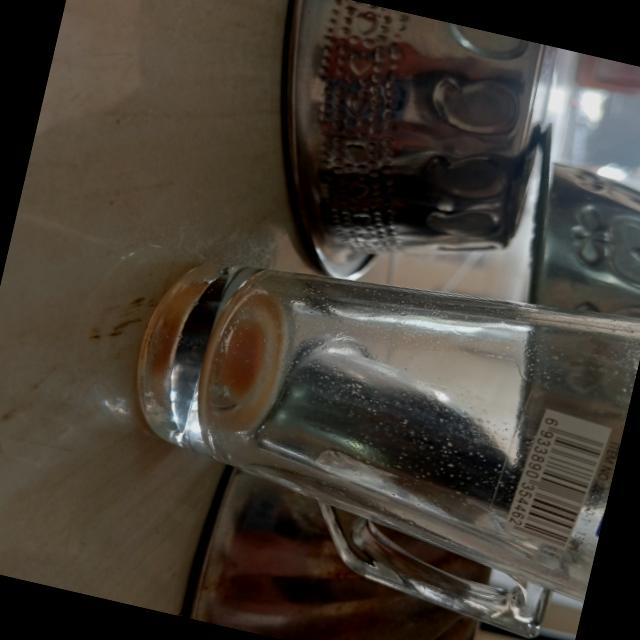glass-VX4N: (99, 202, 640, 640)
